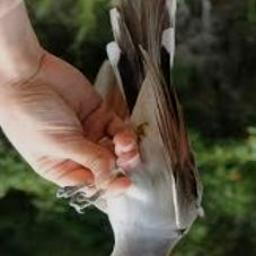Cuckoo: (61, 0, 203, 256)
